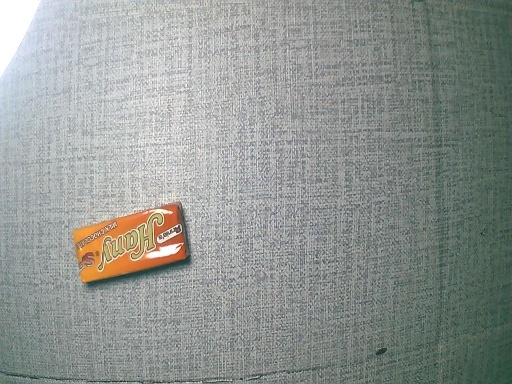plastic: (68, 205, 195, 290)
